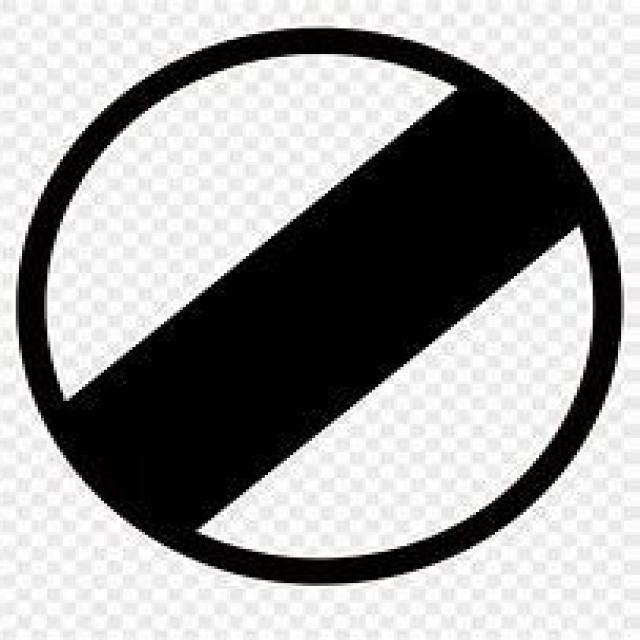restriction ends: (17, 24, 624, 582)
